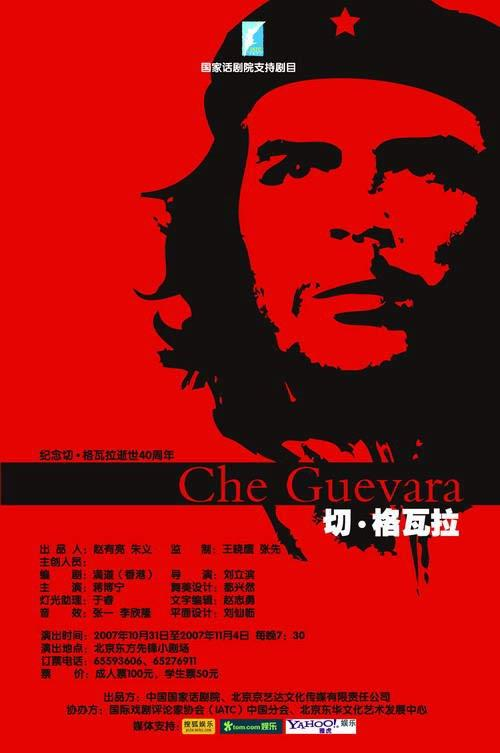Che_Guevara: (219, 58, 484, 379)
